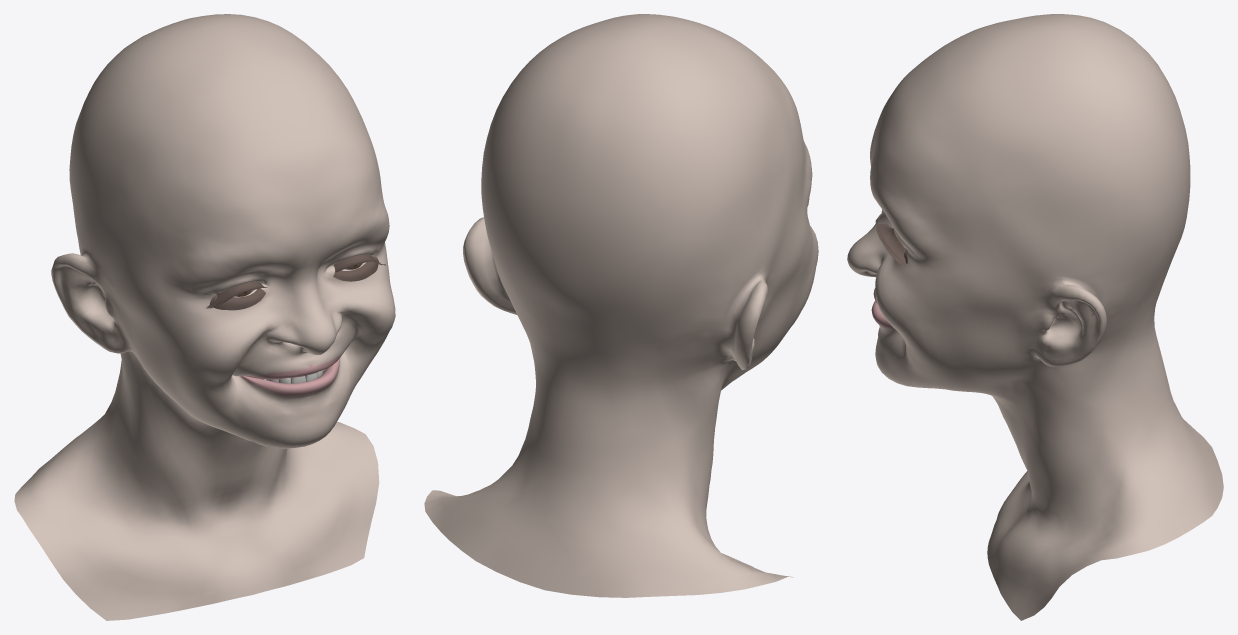
The model's file is karma_face_stage1_U_smile_EXPERIMENT.glb.
3 renders of one model, left to right at view 1: azimuth 30°, elevation 25°; view 2: azimuth 150°, elevation 25°; view 3: azimuth 270°, elevation 25°, orthographic. The views are drawn at different scales.
Visible parts, largest first — view 1: p0, p4; view 2: p0; view 3: p0, p4.
Part boxes in pixels (x1,y1,x2,y2): p0: [14, 14, 395, 620]; p4: [206, 254, 385, 310]; p0: [424, 14, 818, 597]; p0: [847, 14, 1223, 620]; p4: [876, 224, 907, 265].
Bounding box in the file's own units: 3.14 × 4.8 × 3.07.
